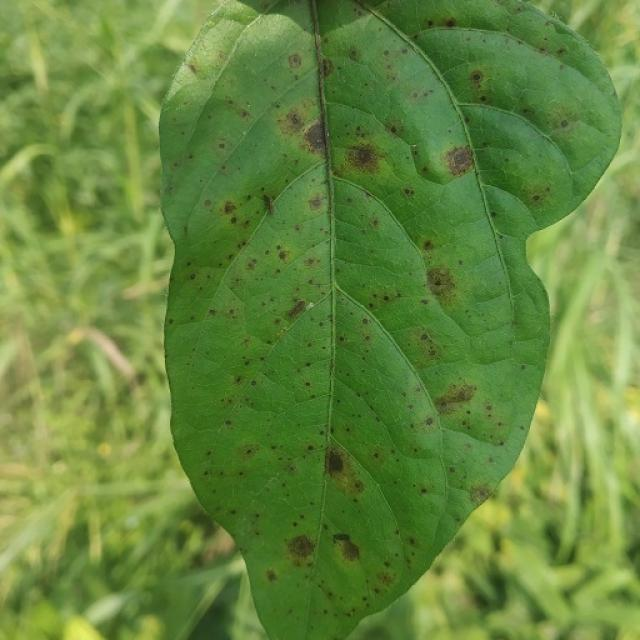Anthracnose: (396, 326, 447, 366), (435, 145, 480, 179), (343, 141, 384, 174), (276, 104, 312, 140), (287, 533, 319, 566), (425, 265, 456, 296), (332, 533, 362, 563), (363, 288, 401, 311), (438, 385, 475, 407), (222, 99, 252, 121), (325, 448, 346, 474), (526, 186, 552, 207), (384, 118, 406, 138), (236, 444, 259, 462), (376, 570, 396, 590), (316, 581, 335, 601), (287, 300, 306, 318), (281, 460, 299, 477), (262, 194, 276, 215), (320, 57, 334, 76), (474, 486, 490, 502), (309, 195, 325, 210), (470, 70, 485, 85), (288, 53, 302, 68), (223, 201, 237, 215), (352, 480, 364, 493), (246, 258, 258, 270), (444, 17, 457, 28), (348, 48, 359, 61), (266, 569, 277, 582), (422, 239, 434, 250), (187, 63, 198, 75), (304, 257, 317, 267), (314, 34, 323, 48), (277, 250, 288, 261), (403, 187, 415, 197), (560, 119, 569, 128), (425, 417, 434, 426), (234, 375, 243, 384), (420, 333, 430, 341), (557, 47, 566, 55), (411, 147, 419, 156), (408, 537, 416, 546), (421, 166, 429, 174), (479, 95, 487, 102), (421, 299, 429, 306), (204, 199, 211, 207), (420, 487, 428, 494), (449, 466, 456, 474), (189, 273, 196, 280), (225, 419, 232, 426), (490, 211, 497, 218), (362, 317, 369, 324), (427, 20, 434, 27), (167, 318, 174, 325), (401, 48, 408, 55), (307, 445, 314, 451), (250, 380, 257, 386), (218, 143, 225, 149), (338, 336, 344, 342), (304, 381, 310, 387), (520, 364, 526, 370), (230, 509, 236, 515), (292, 521, 298, 527), (206, 450, 212, 456), (488, 457, 494, 463)
Blackgram: (161, 0, 620, 639)
